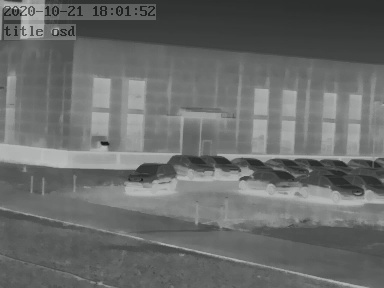vehicle: (300, 174, 365, 204), (238, 168, 305, 194), (127, 160, 179, 190), (168, 152, 212, 179), (347, 173, 384, 201), (206, 153, 242, 177), (261, 154, 303, 172), (231, 154, 272, 172), (346, 156, 381, 171), (316, 156, 348, 170), (295, 156, 325, 169)
